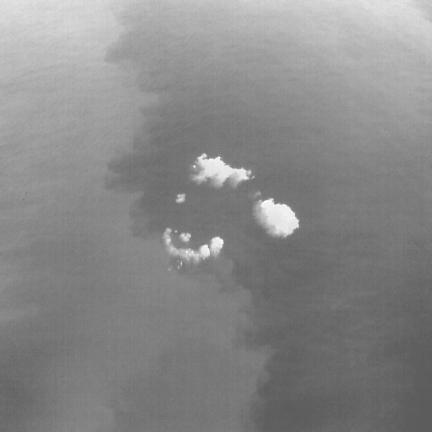flukeprints: (190, 154, 252, 187), (253, 198, 298, 237), (163, 228, 207, 263), (209, 237, 223, 256), (198, 245, 209, 258), (179, 233, 191, 242), (176, 194, 185, 202)
